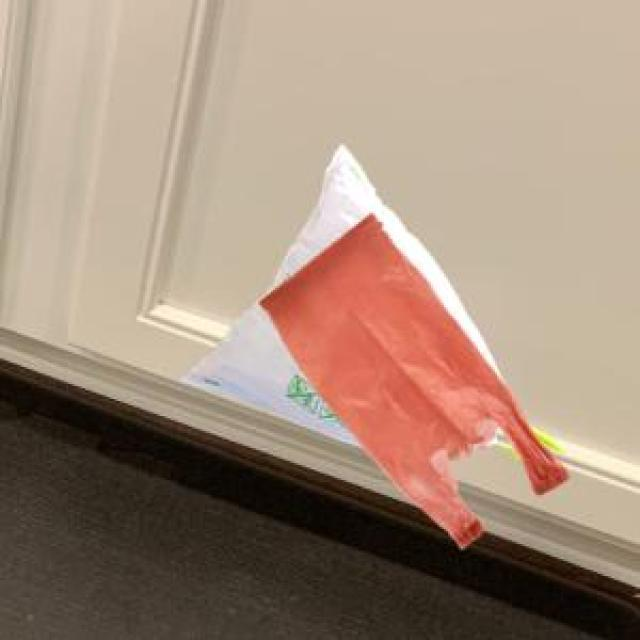waste: (186, 146, 568, 547)
